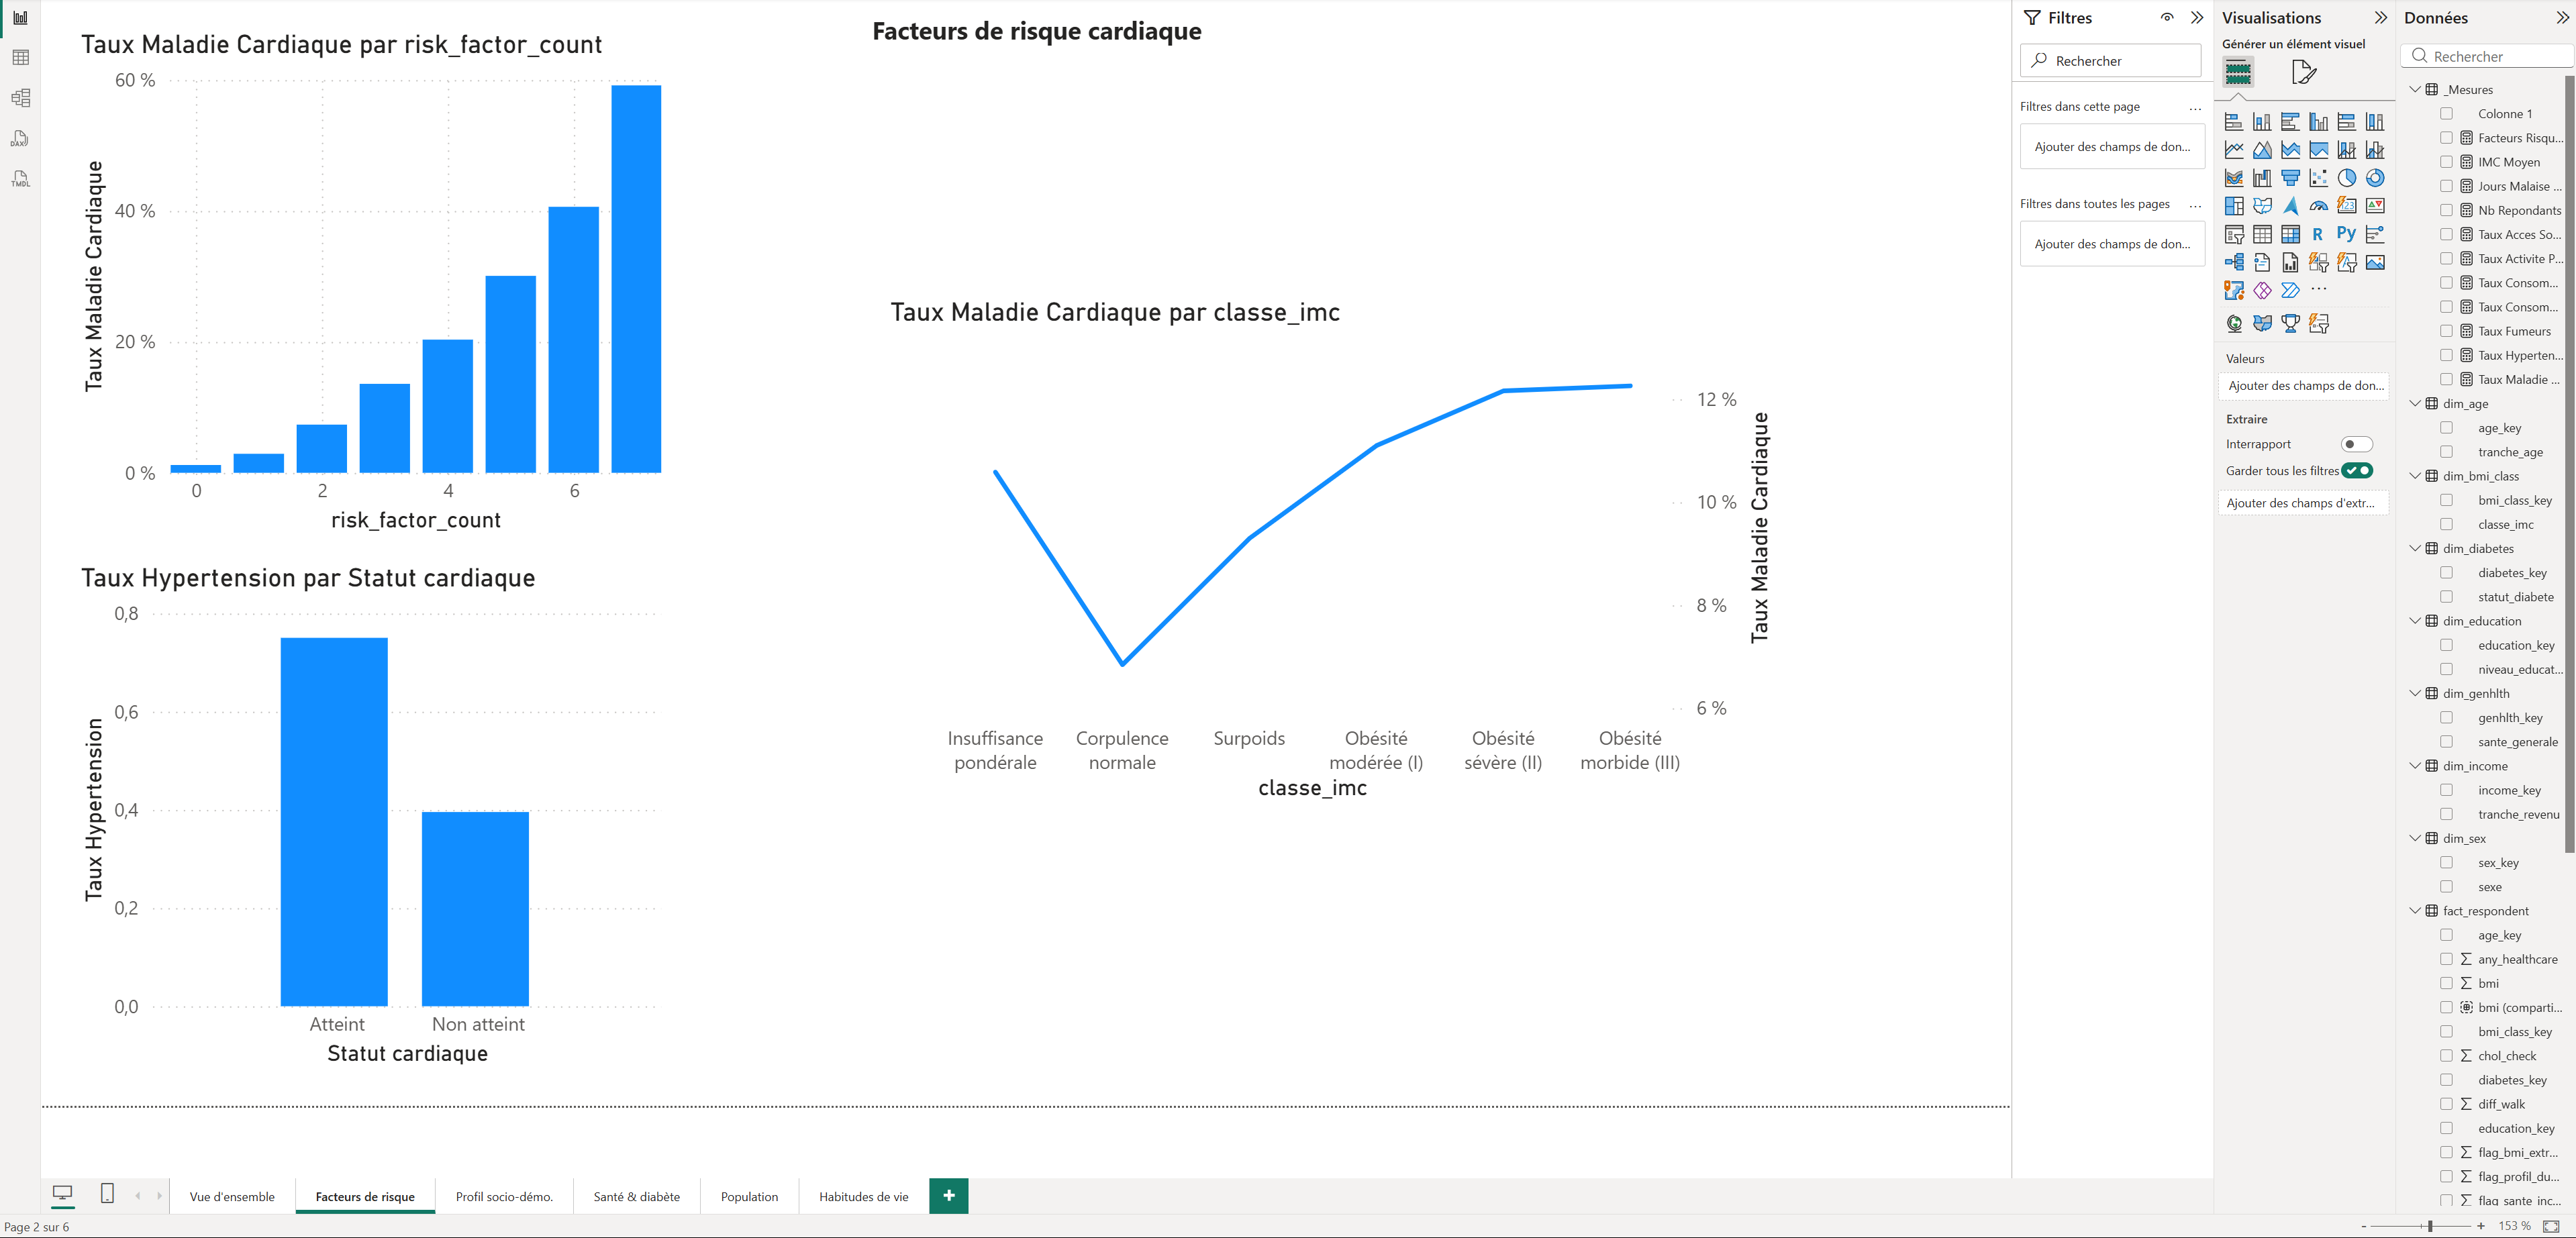

What the dashboard file says about the page in this screenshot:
{"tool":"powerbi","page":{"name":"Facteurs de risque","canvas":[1280,720],"ordinal":1},"visuals":[{"type":"clusteredColumnChart","fields":{"Y":["_Mesures.Taux Maladie Cardiaque"],"Category":["fact_respondent.risk_factor_count"]},"box":[20.9,19.6,387.1,331.6],"z":0},{"type":"lineChart","fields":{"Category":["dim_bmi_class.classe_imc"],"Y2":["_Mesures.Taux Maladie Cardiaque"]},"box":[546.7,193.6,581.4,331.6],"z":1000},{"type":"clusteredColumnChart","fields":{"Category":["fact_respondent.Statut cardiaque"],"Y":["_Mesures.Taux Hypertension"]},"box":[20.9,366.2,387.1,331.6],"z":2000},{"type":"textbox","box":[547,526,581,172],"z":3000},{"type":"textbox","box":[534.9,4.6,269.4,39.9],"z":3001}]}

Visuals, with their boxes on the page's 1280x720 design canvas (x1, y1, x2, y2). These are canvas units, not pixel positions in the 2576x1238 screenshot, which may show the page scaled, cropped or inside an application window:
clusteredColumnChart - _Mesures.Taux Maladie Cardiaque x fact_respondent.risk_factor_count: (left=21, top=20, right=408, bottom=351)
lineChart - dim_bmi_class.classe_imc x _Mesures.Taux Maladie Cardiaque: (left=547, top=194, right=1128, bottom=525)
clusteredColumnChart - fact_respondent.Statut cardiaque x _Mesures.Taux Hypertension: (left=21, top=366, right=408, bottom=698)
textbox: (left=547, top=526, right=1128, bottom=698)
textbox: (left=535, top=5, right=804, bottom=44)
